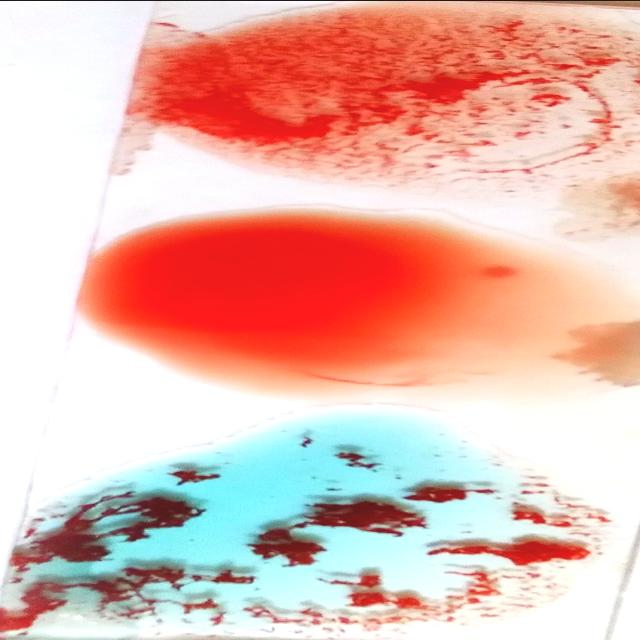A: (8, 450, 595, 628)
D: (188, 6, 614, 168)
